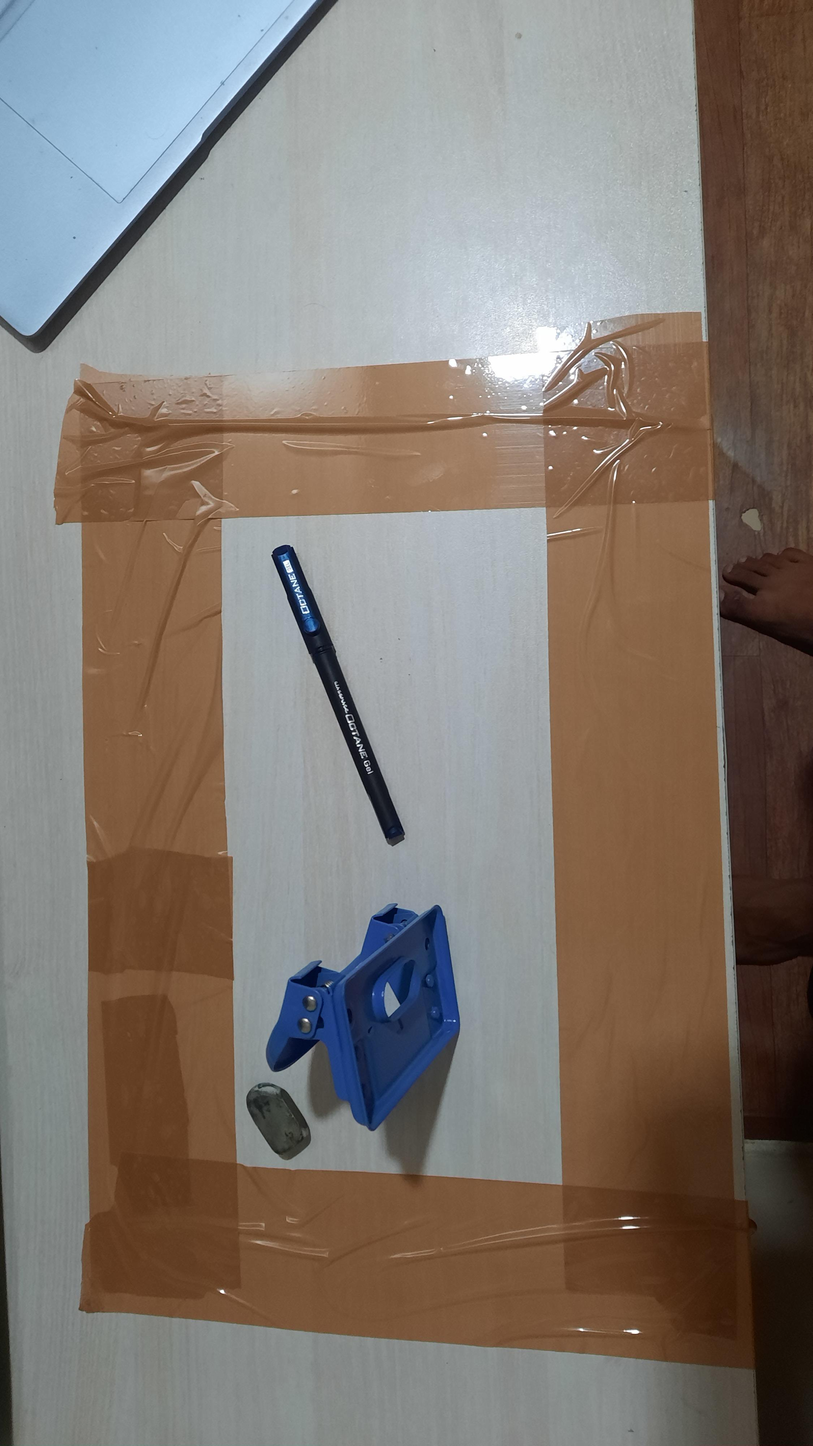Eraser: (246, 1082, 311, 1161)
Pen: (271, 544, 406, 847)
Punch: (266, 902, 460, 1133)
